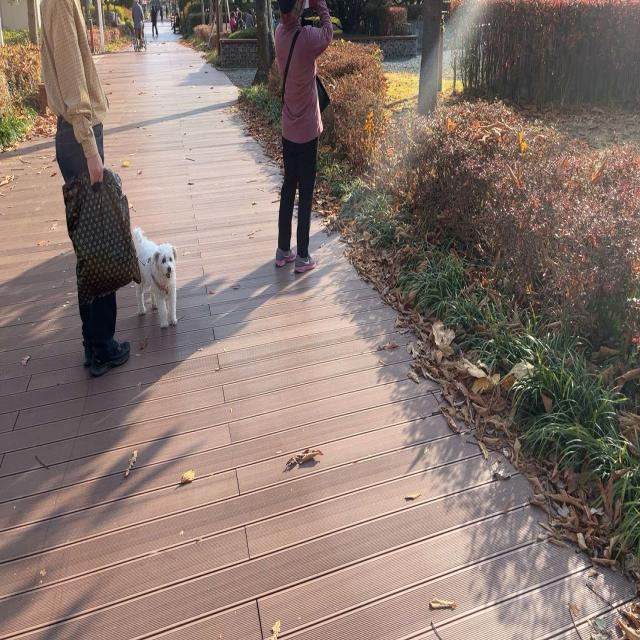Leashed_Dog: (114, 214, 179, 330)
